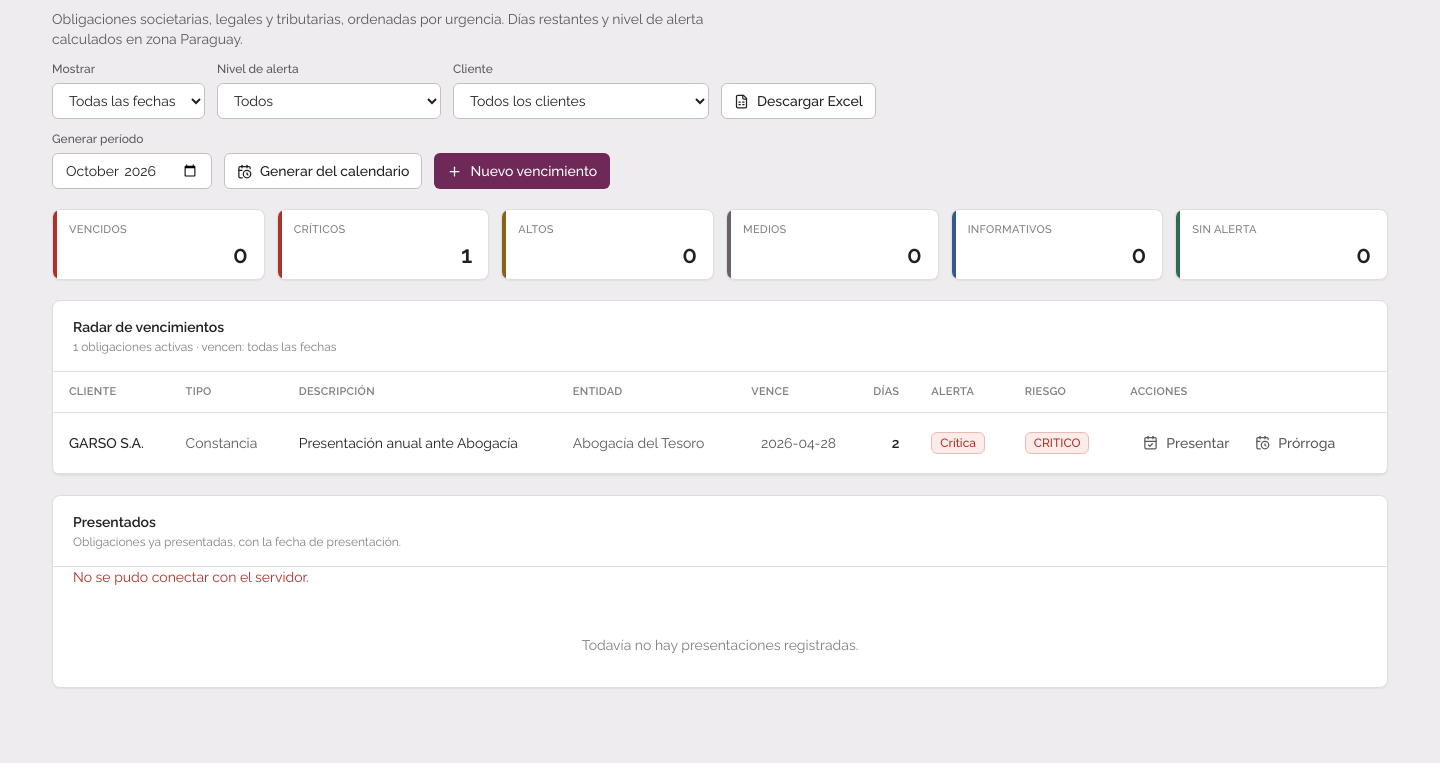
Test: radar de vencimientos › dirección puede dar de alta un vencimiento nuevo
Expected: the text "Presentación anual ante Abogacía" is shown, [283,412,557,473]
Click the button "Nuevo vencimiento" at point(522, 171), box [434,153,610,189]
(page scrolled)
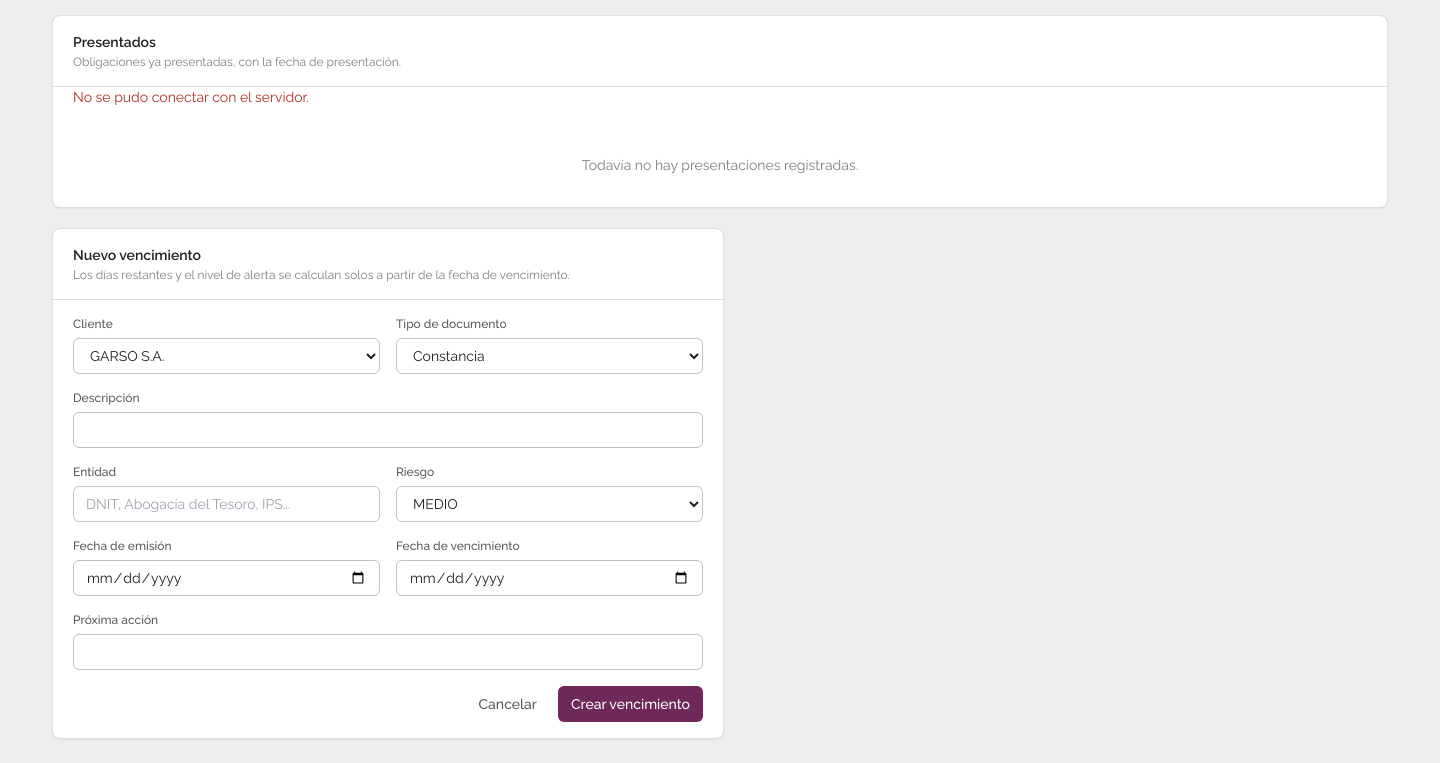
Type "Renovación de patente" into the field labelled "Descripción" at point(388, 430), box [73,412,703,448]
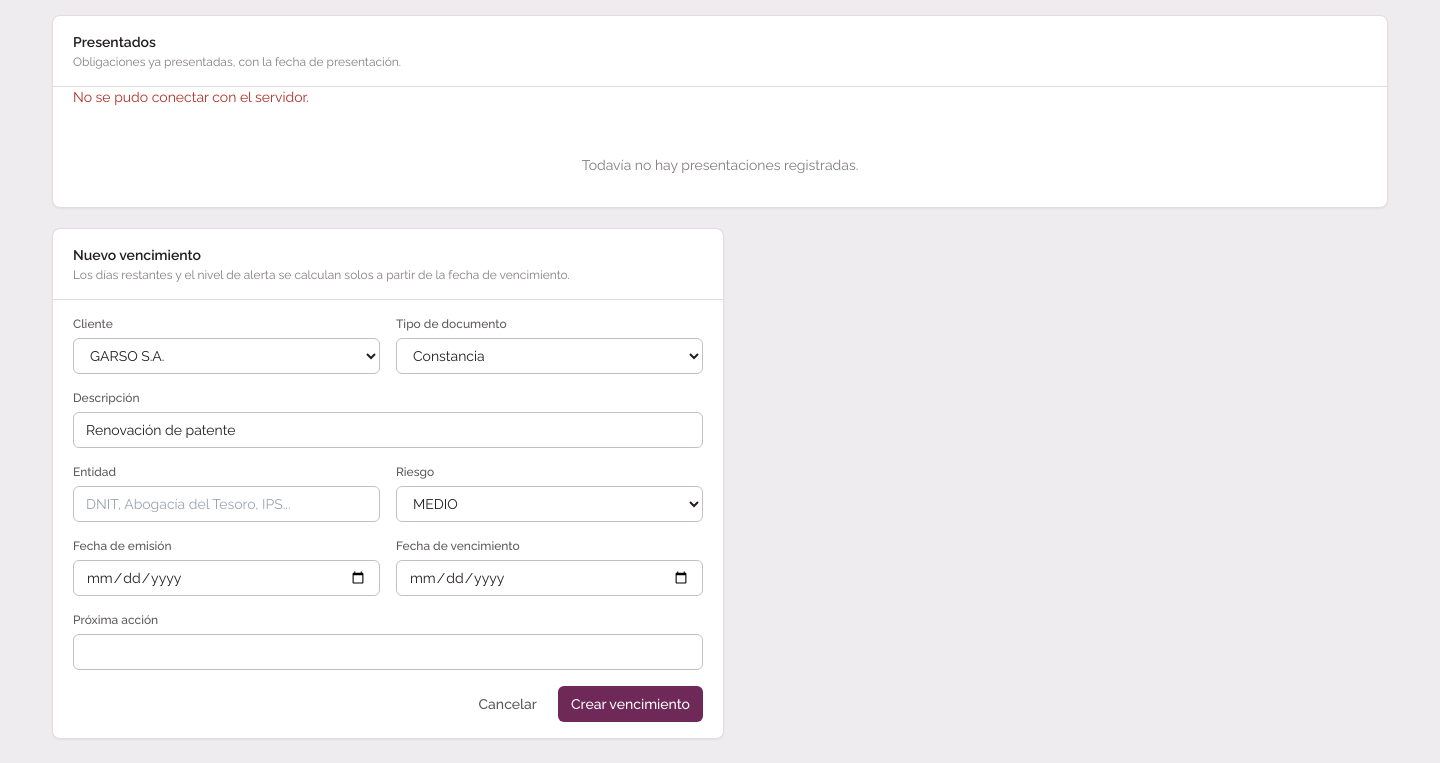
Type "Municipalidad" into the field labelled "Entidad" at point(226, 504), box [73,486,380,522]
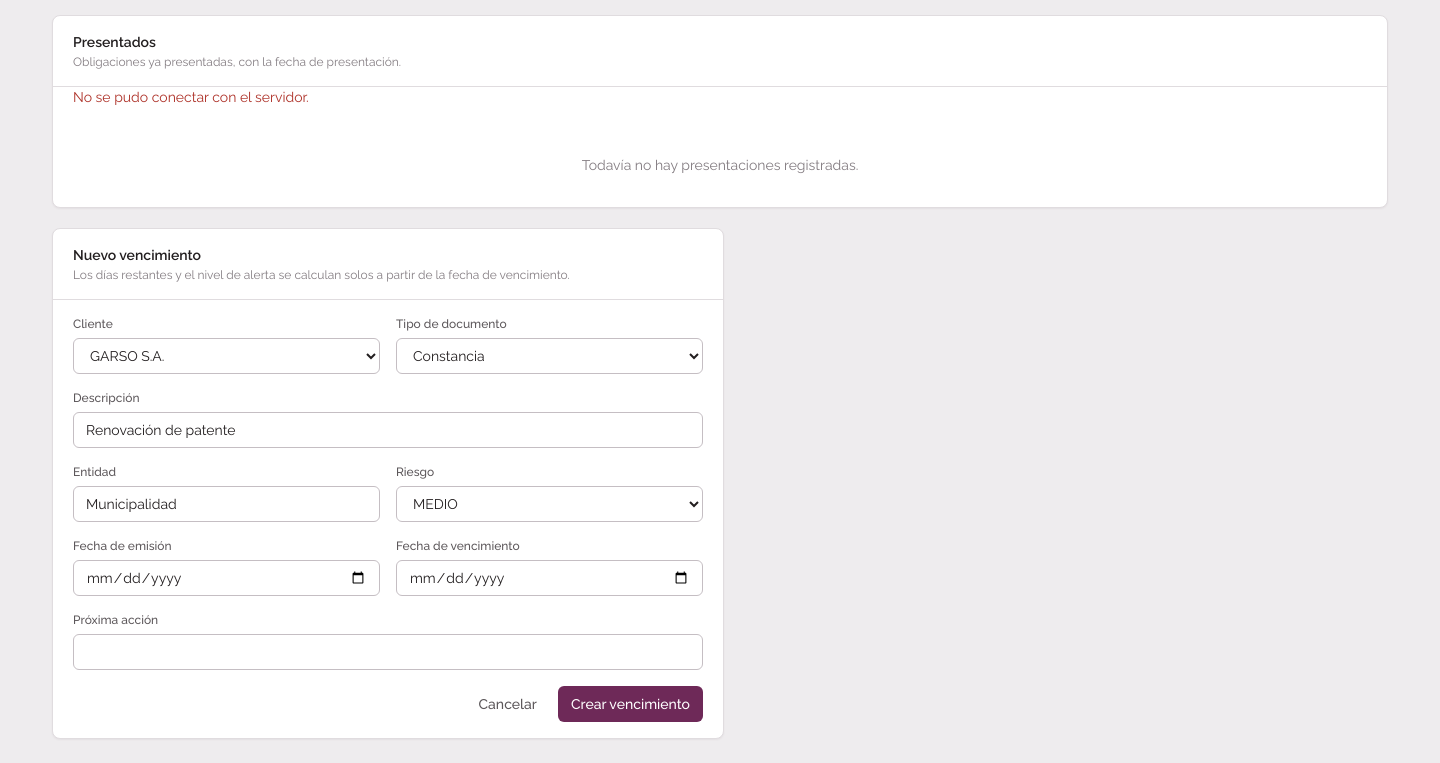
Type "2026-06-15" into the date field labelled "Fecha de vencimiento" at point(550, 578), box [396,560,703,596]
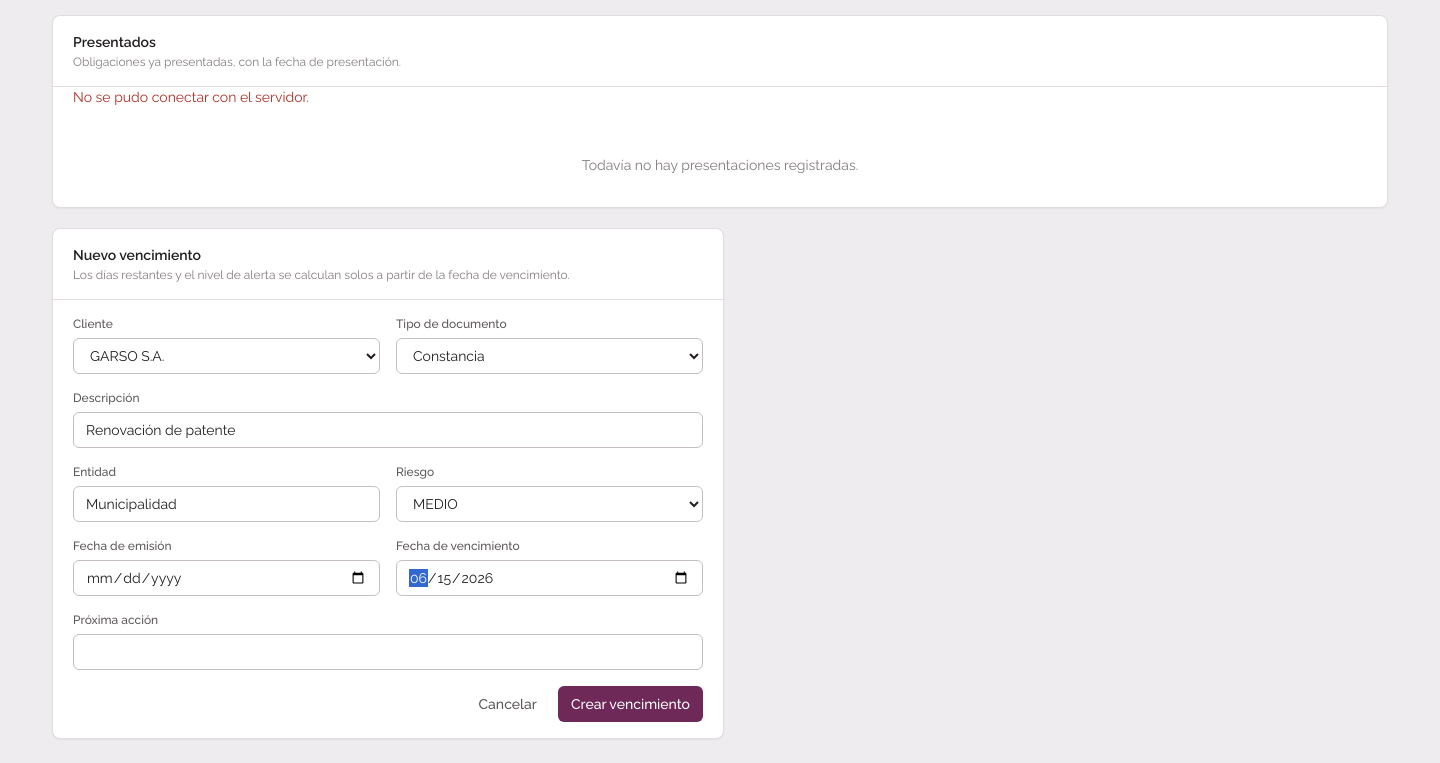
Click the button "Crear vencimiento" at point(630, 704), box [558,686,703,722]
(page scrolled)
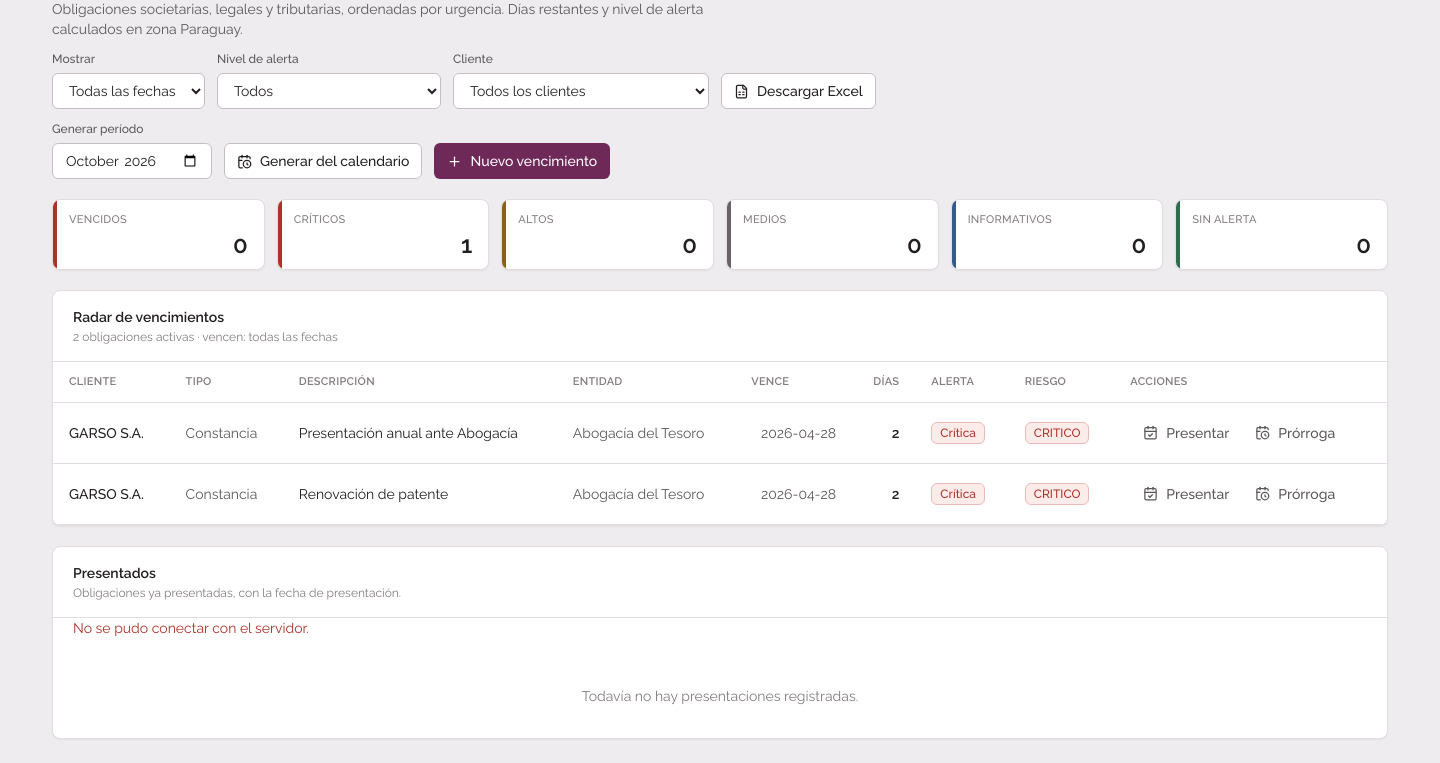
Expected: the cell "Renovación de patente" is shown, [283,463,557,524]
